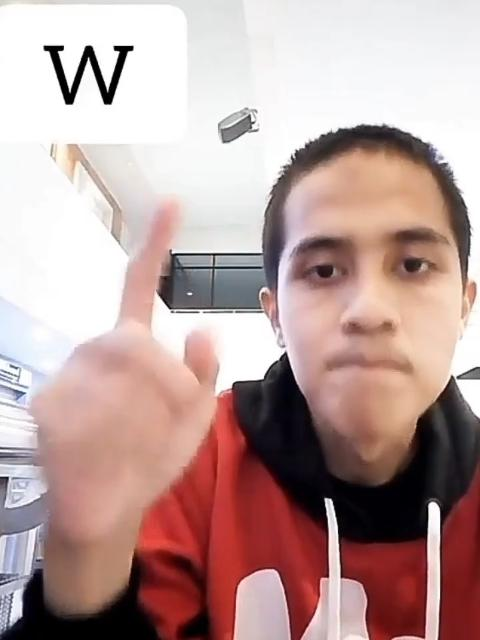X: (34, 200, 228, 524)
